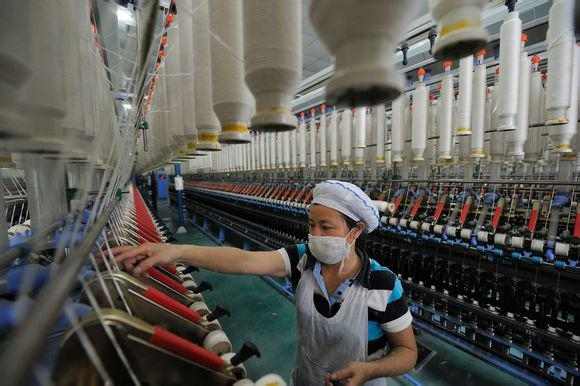OK: (310, 222, 352, 264)
